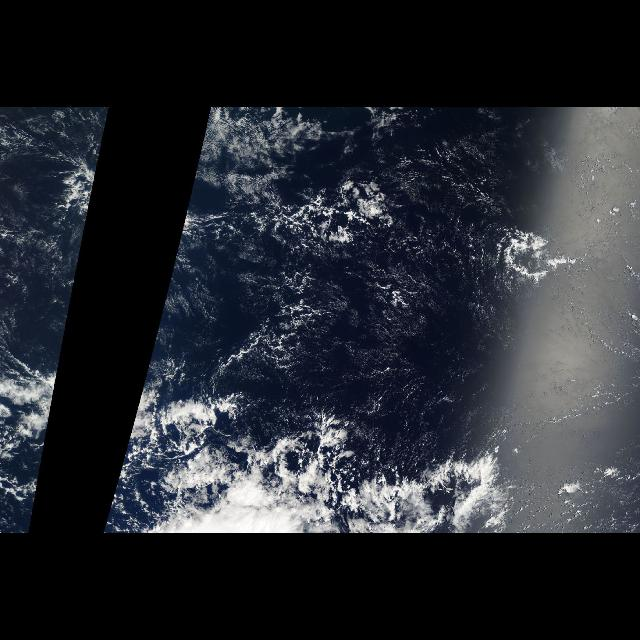Gravel: (188, 232, 388, 430), (1, 110, 87, 508)
Sugar: (344, 109, 632, 431), (4, 111, 60, 349)
